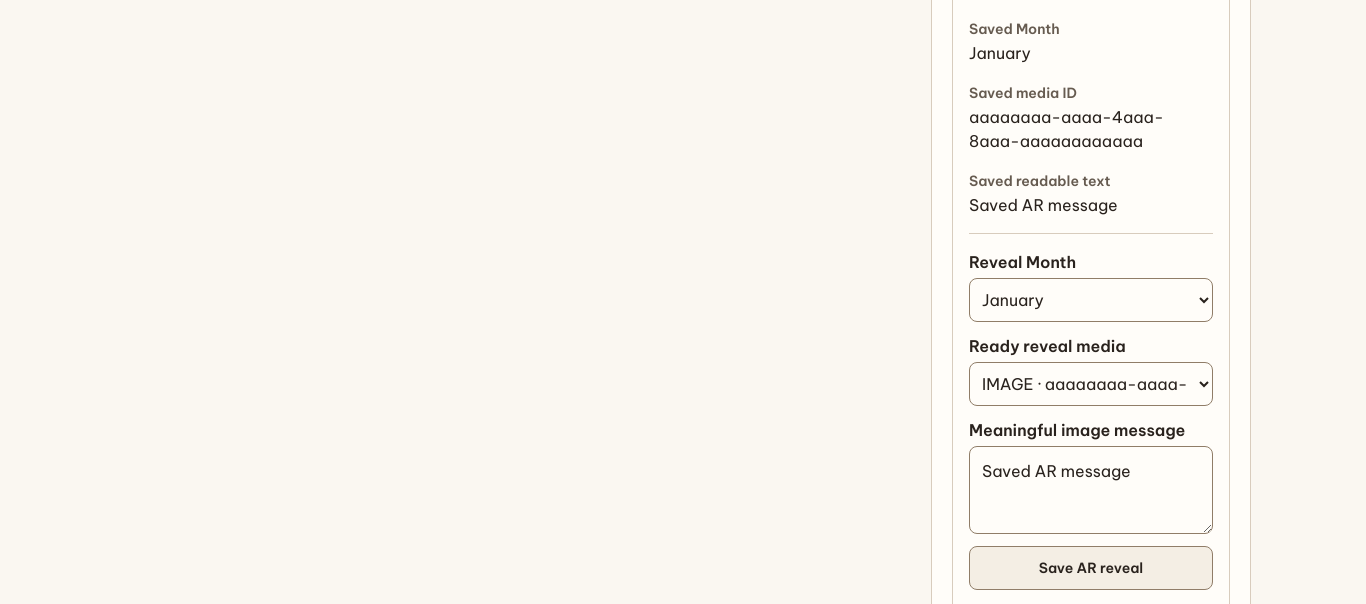
it: Batch 2 draft preservation › guards an AR-only media change and clears the warning after reverting
(page scrolled)
Check: the text box showing "Saved AR message" is shown, box [969,446,1213,534]
Select "IMAGE · bbbbbbbb-bbbb-4bbb-8bbb-bbbbbbbbbbbb" in the dropdown labelled "Ready reveal media" at (1091, 384), box [969,362,1213,406]
(page scrolled)
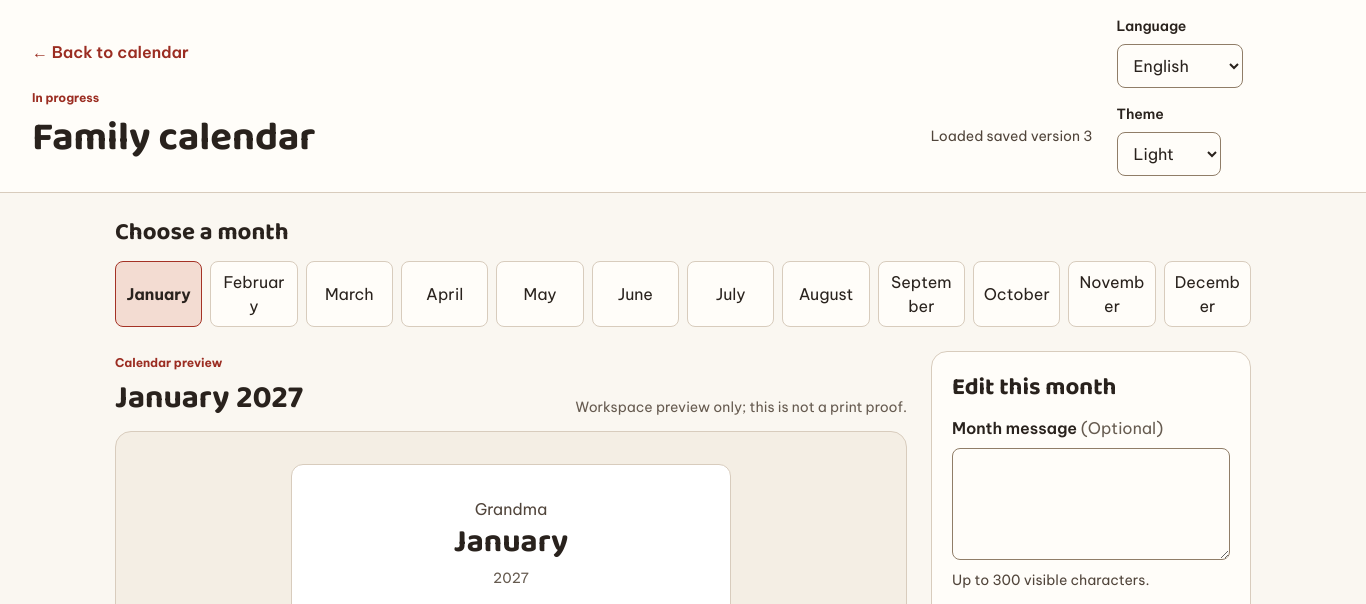
Click the link "← Back to calendar" at (110, 52), box [32,42,189,62]
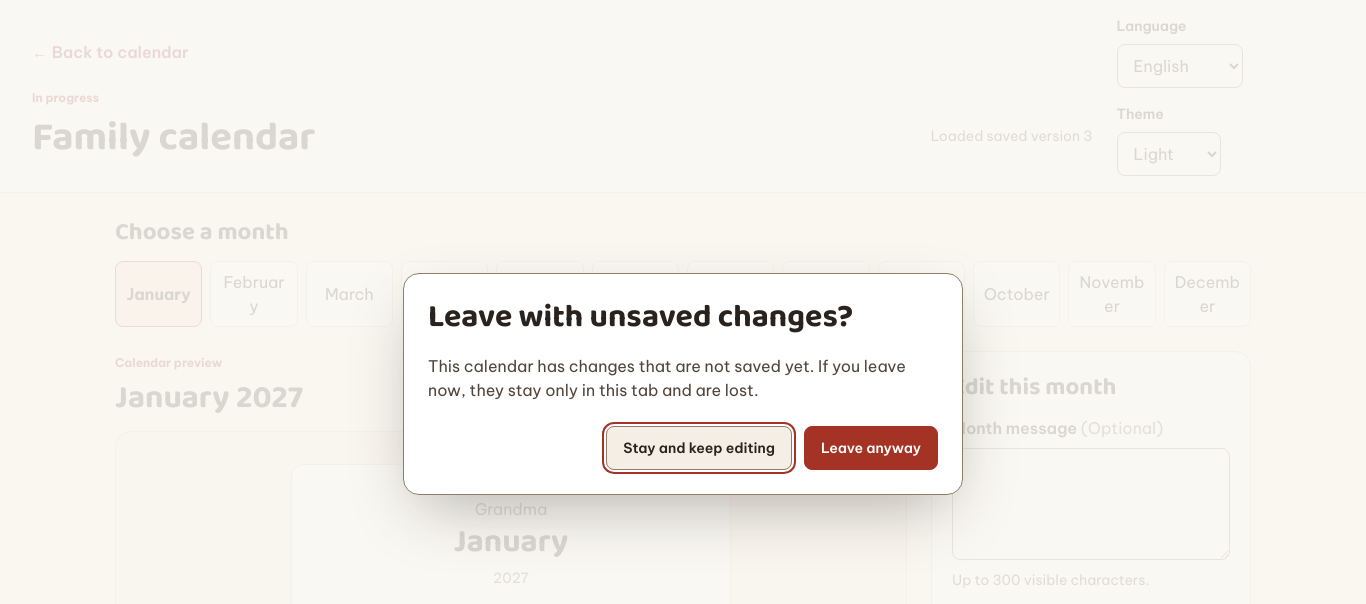
Click the button "Stay and keep editing" at (699, 448), box [606,426,792,470]
(page scrolled)
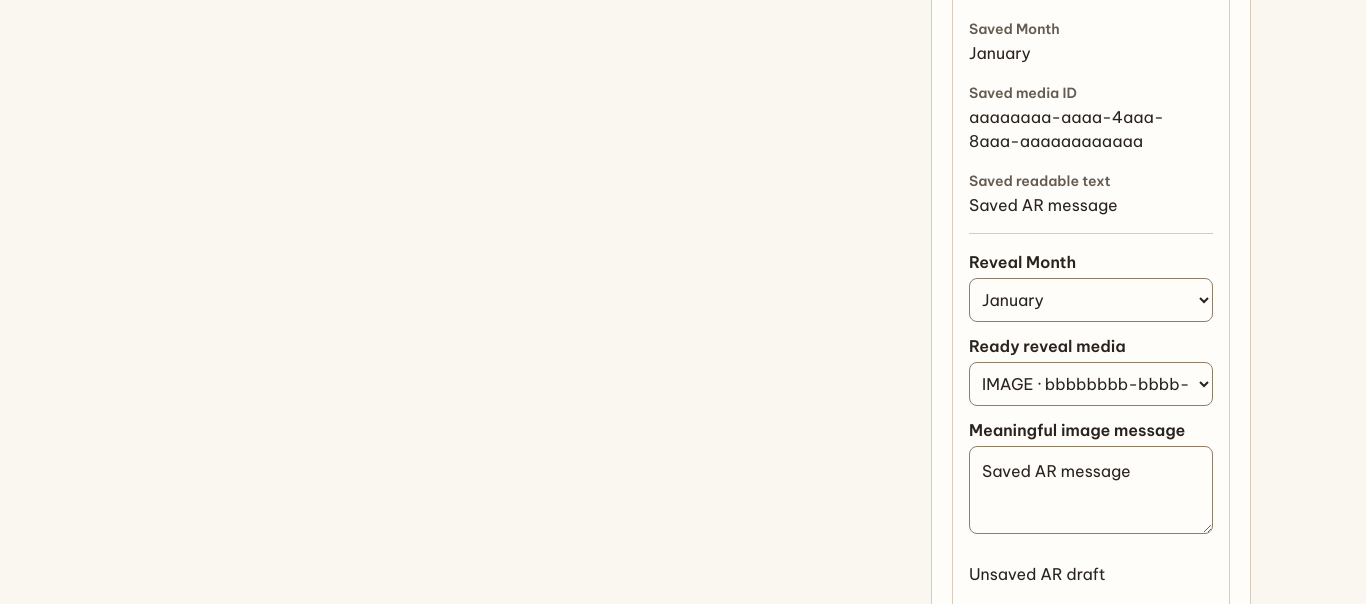
Check: the dialog is gone
Select "IMAGE · aaaaaaaa-aaaa-4aaa-8aaa-aaaaaaaaaaaa" in the dropdown labelled "Ready reveal media" at (1091, 384), box [969,362,1213,406]
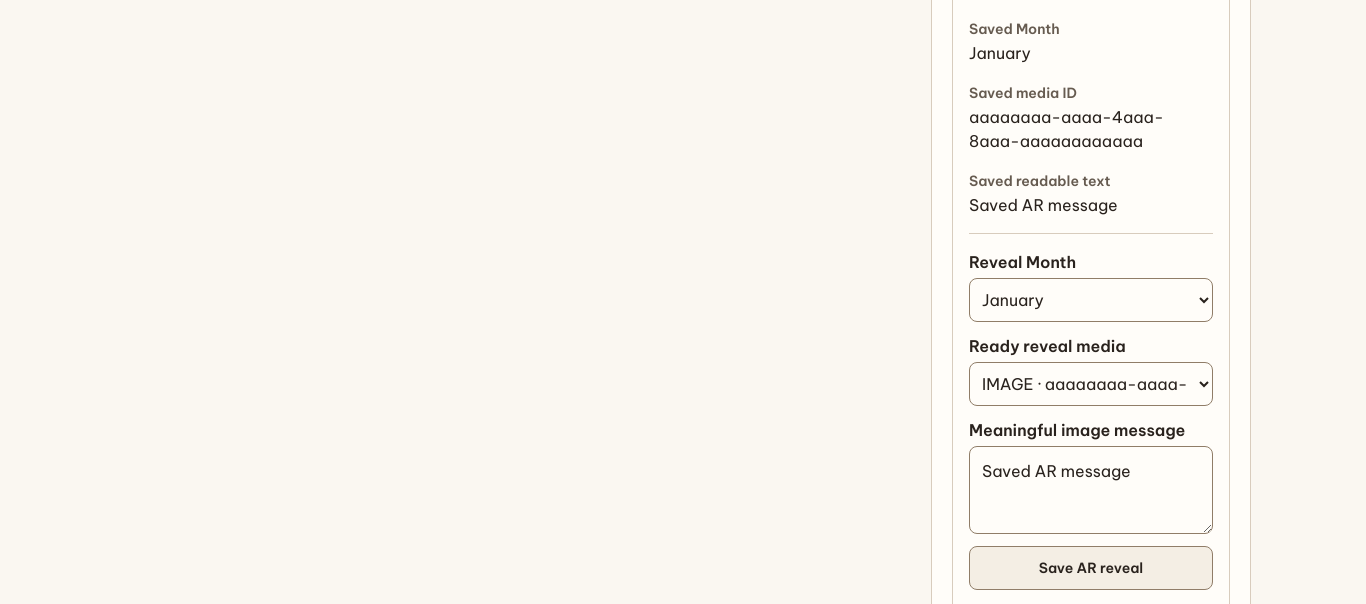
Check: the text "Unsaved AR draft" is gone
